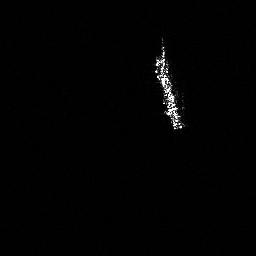ship: (149, 36, 190, 135)
